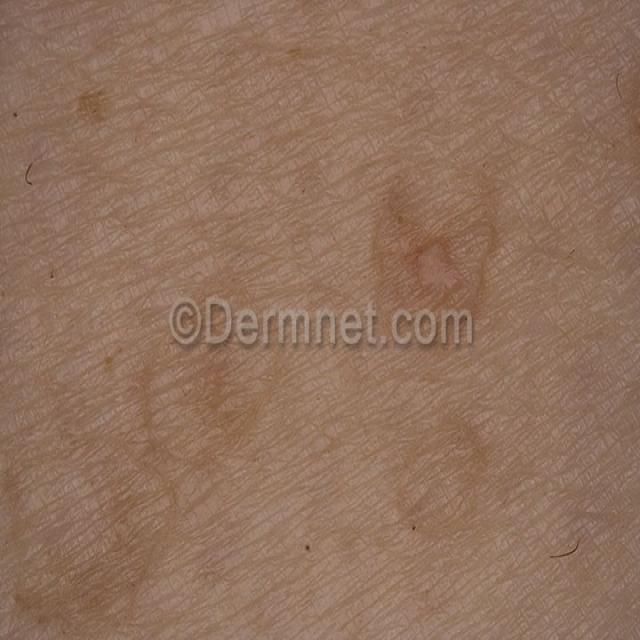Eczema: (59, 86, 496, 542)
